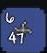shuriken: (0, 1, 47, 53)
